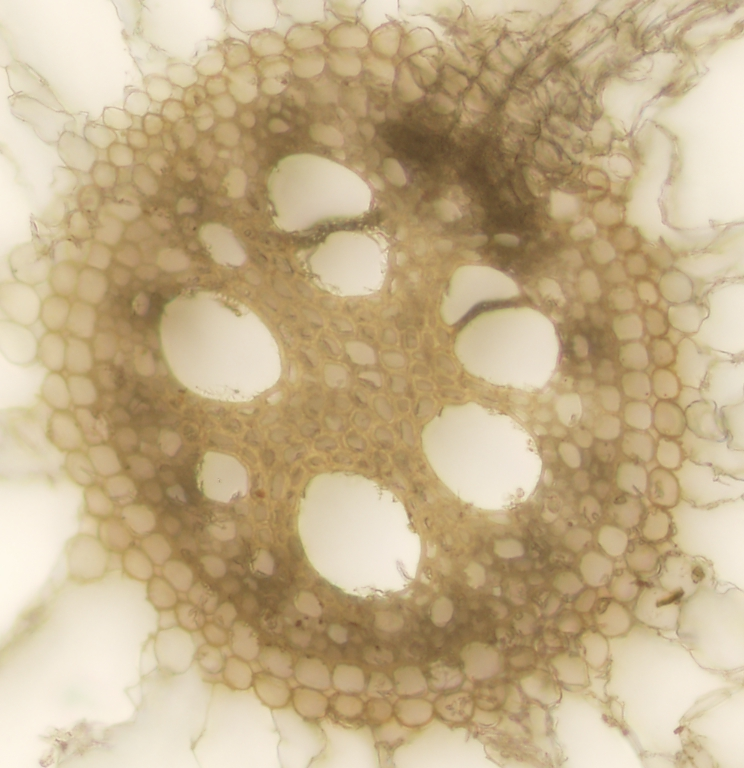lm: (265, 150, 389, 296), (441, 262, 560, 395), (300, 470, 423, 597), (159, 288, 282, 407), (421, 403, 543, 511)
